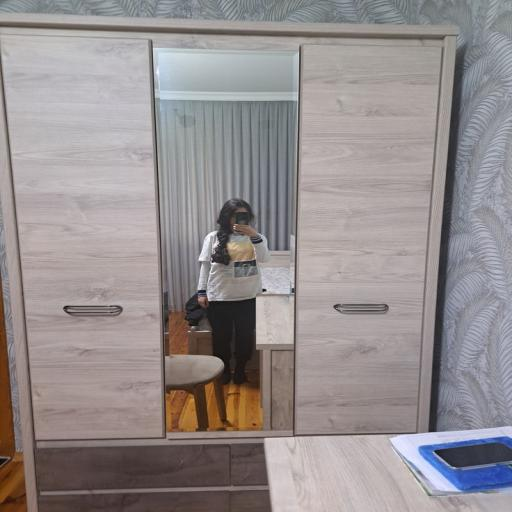bus_stop: (188, 192, 280, 387)
car: (0, 8, 466, 511)
stroller: (250, 423, 512, 512)
